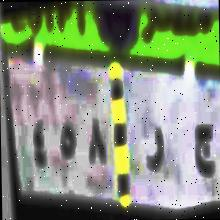4: (27, 115, 49, 182)
5: (54, 116, 76, 167)
8: (79, 111, 109, 179)
jeem: (188, 110, 217, 192)
raa: (143, 123, 169, 180)
